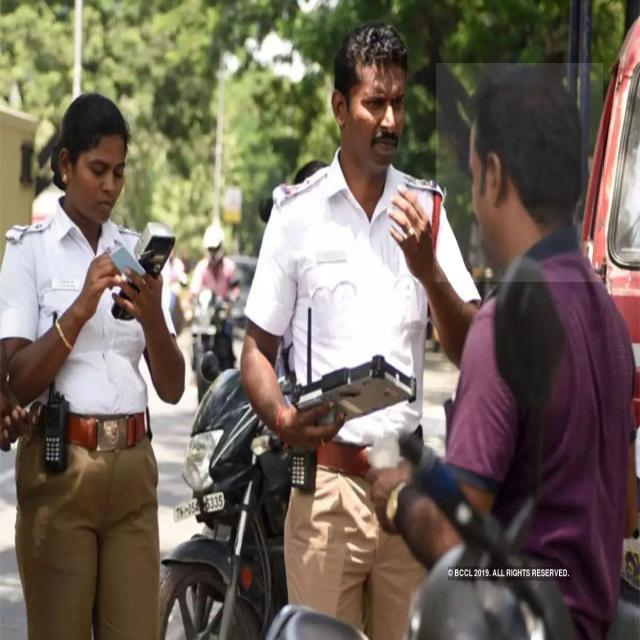No_Helmet: (436, 63, 603, 282)
